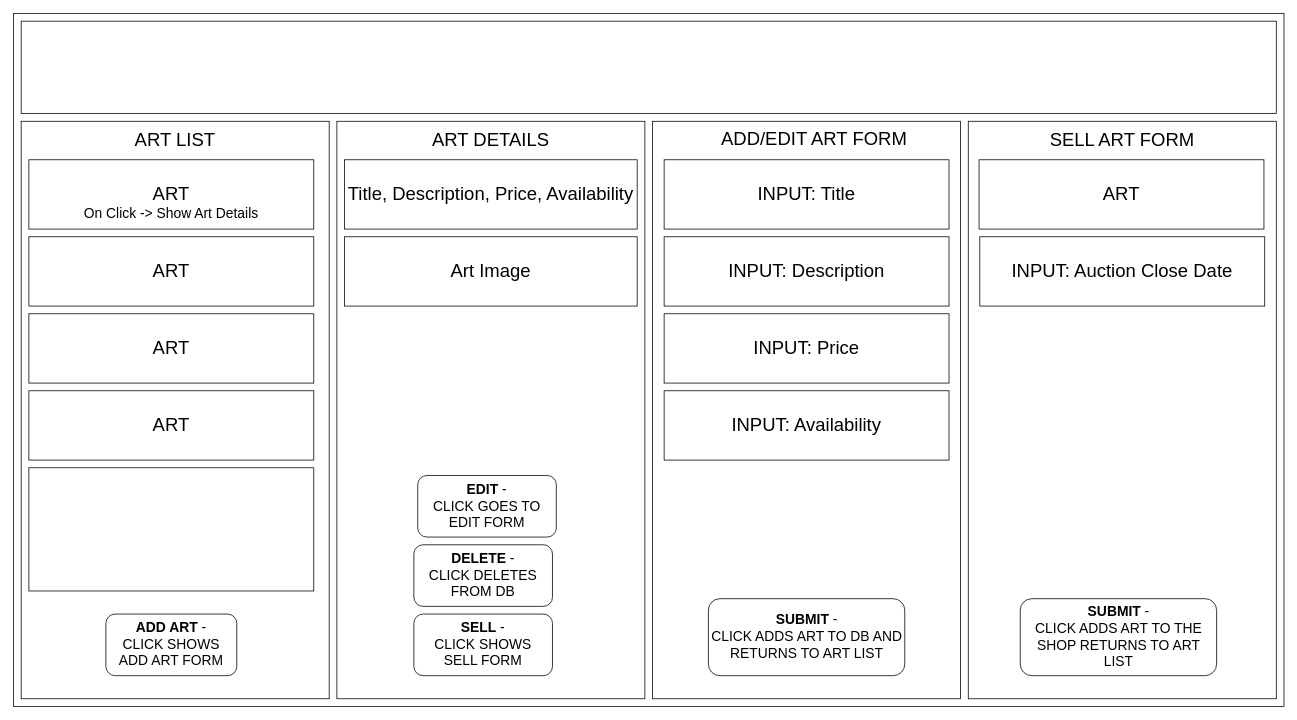
Some shapes in this 1297 by 720 pixel diagram are drawn without their labels. Here are the shapes that lost their labels. From the top down, the centre of each, then its label:
the point at 648,67: HEADER/NAV BAR
the point at 171,529: CURRENT ART FOR SALE
